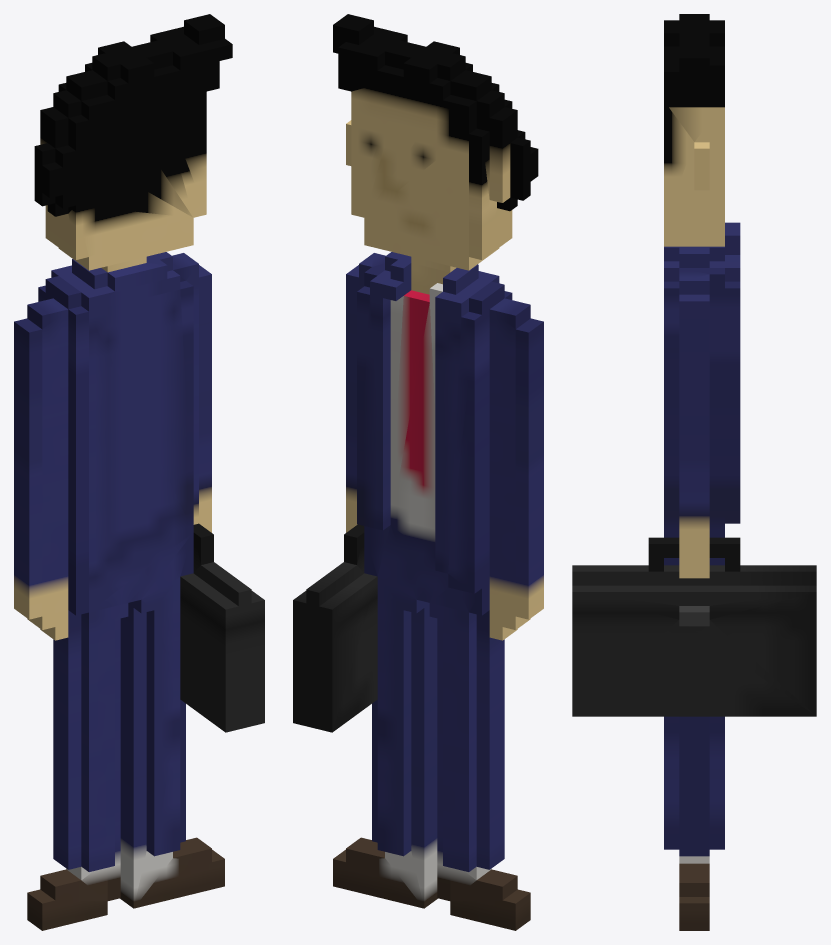
File: Producer.dae
The picture shows the model from 3 angles, left to right: view 1: azimuth 30°, elevation 25°; view 2: azimuth 150°, elevation 25°; view 3: azimuth 270°, elevation 25°; orthographic projection.
Parts seen in each view (by area): view 1: producer.merged; view 2: producer.merged; view 3: producer.merged.
Boxes of the visible parts, x1=… form: producer.merged: x1=14, y1=14, x2=264, y2=930; producer.merged: x1=293, y1=14, x2=543, y2=930; producer.merged: x1=572, y1=14, x2=816, y2=930.
Bounding box in the file's own units: 1.5 × 1.6 × 6.3.
Materials: 1 (1 with a texture image).
